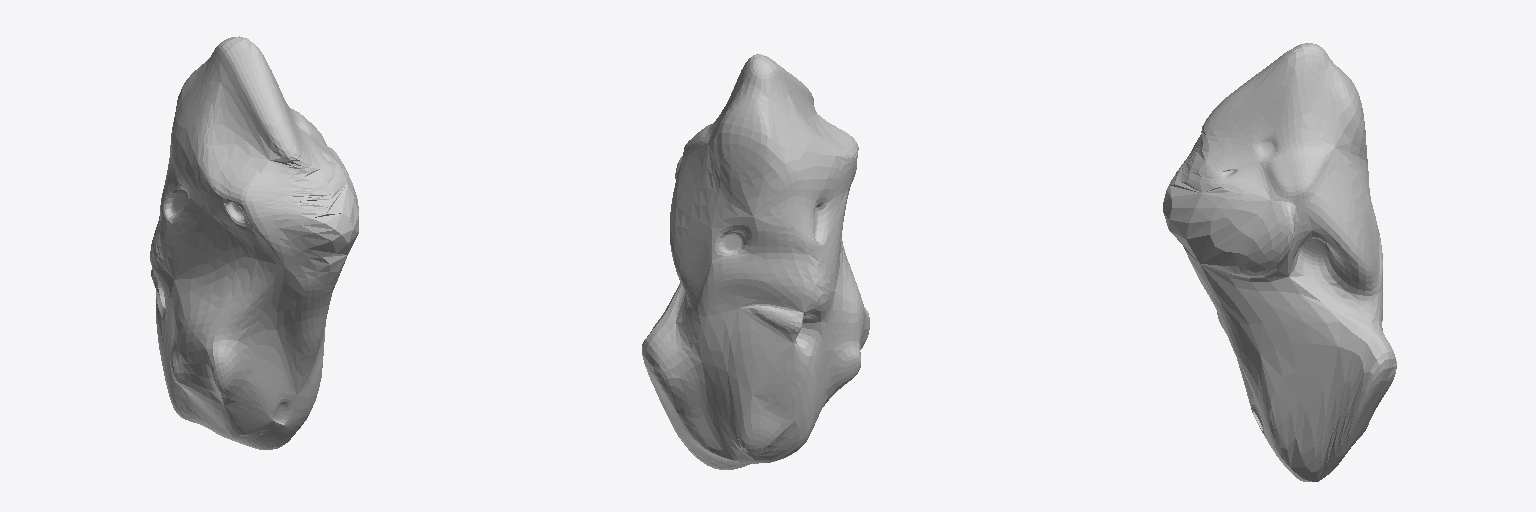
File: meteor_NM_7366.mtl.obj
The picture shows the model from 3 angles: view 1: azimuth 30°, elevation 25°; view 2: azimuth 150°, elevation 25°; view 3: azimuth 270°, elevation 25°; orthographic projection.
Parts seen in each view (by area): view 1: meteor_Cube.002; view 2: meteor_Cube.002; view 3: meteor_Cube.002.
Boxes of the visible parts, x1,y1,x2,y2 form: meteor_Cube.002: [150, 36, 358, 449]; meteor_Cube.002: [642, 54, 869, 469]; meteor_Cube.002: [1163, 43, 1396, 481].
Size of the model in its own units: 399 by 908 by 459.